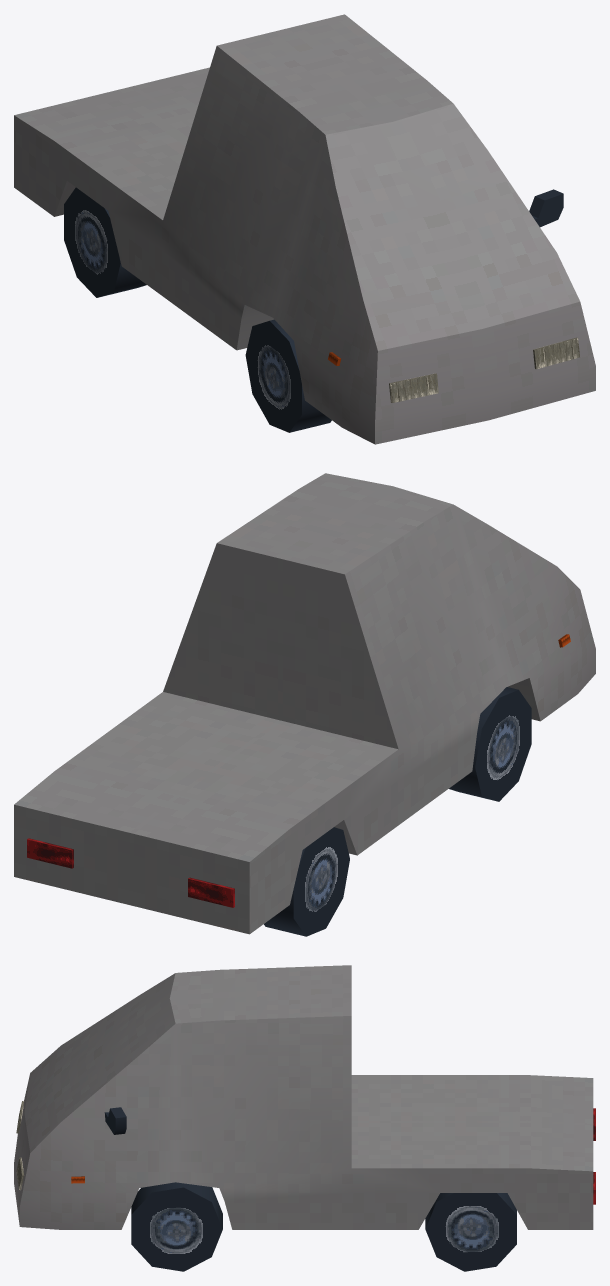
File: delivery_truck.fbx
3 renders of one model, top to bottom at view 1: azimuth 30°, elevation 25°; view 2: azimuth 150°, elevation 25°; view 3: azimuth 270°, elevation 25°, orthographic. The views are drawn at different scales.
Visible parts, largest first — view 1: car, wheels, front_lamp, Cube.001; view 2: car, wheels, rear_lamps; view 3: car, wheels, Cube.001.
Part boxes in pixels (x1=…): car: x1=14, y1=14, x2=595, y2=444; wheels: x1=64, y1=187, x2=331, y2=432; front_lamp: x1=389, y1=337, x2=579, y2=402; Cube.001: x1=529, y1=189, x2=563, y2=227; car: x1=14, y1=473, x2=595, y2=934; wheels: x1=264, y1=687, x2=531, y2=936; rear_lamps: x1=27, y1=838, x2=234, y2=907; car: x1=14, y1=965, x2=593, y2=1229; wheels: x1=131, y1=1182, x2=516, y2=1271; Cube.001: x1=104, y1=1107, x2=126, y2=1134.
Size of the model in its own units: 187 by 204 by 456.
5 materials, 5 textured.
